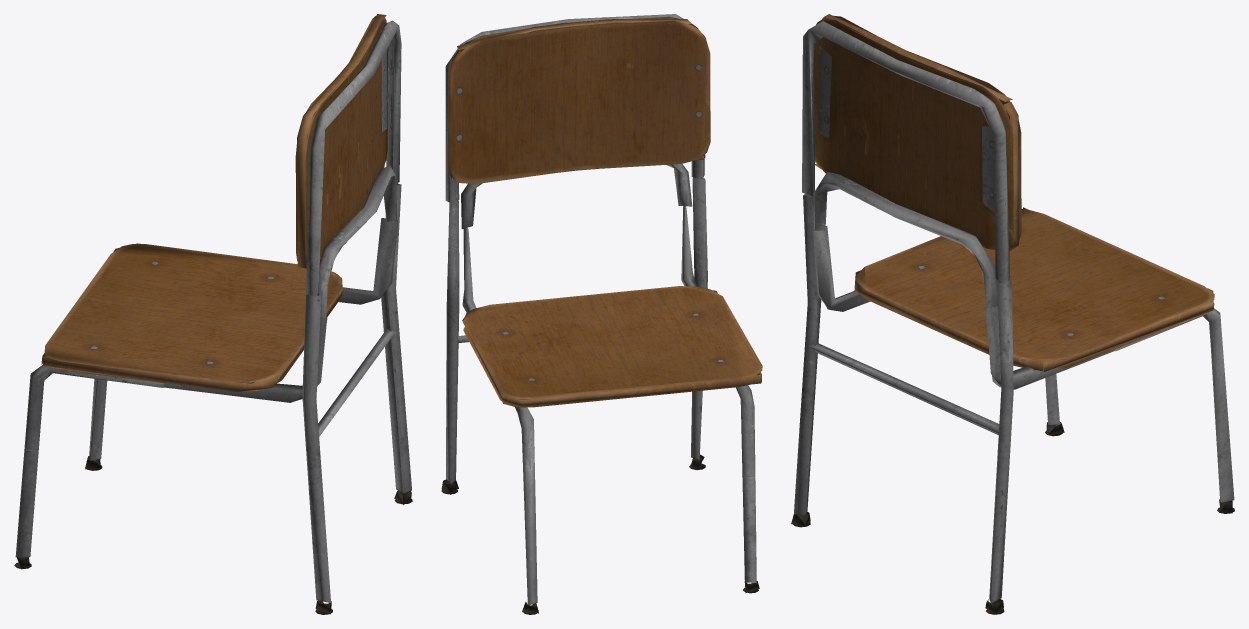
File: chair.glb
The picture shows the model from 3 angles, left to right: view 1: azimuth 30°, elevation 25°; view 2: azimuth 150°, elevation 25°; view 3: azimuth 270°, elevation 25°; orthographic projection. The views are drawn at different scales.
Visible parts, largest first — view 1: defaultMaterial.003, defaultMaterial.002; view 2: defaultMaterial.003, defaultMaterial.002; view 3: defaultMaterial.003, defaultMaterial.002.
Boxes of the visible parts, <box> form: defaultMaterial.003: <box>41,14,388,391</box>; defaultMaterial.002: <box>14,20,412,614</box>; defaultMaterial.003: <box>446,16,762,407</box>; defaultMaterial.002: <box>441,14,759,614</box>; defaultMaterial.003: <box>813,14,1214,371</box>; defaultMaterial.002: <box>791,21,1234,614</box>.
Size of the model in its own units: 1.33 by 1.7 by 1.34.
1 material, 1 textured.
